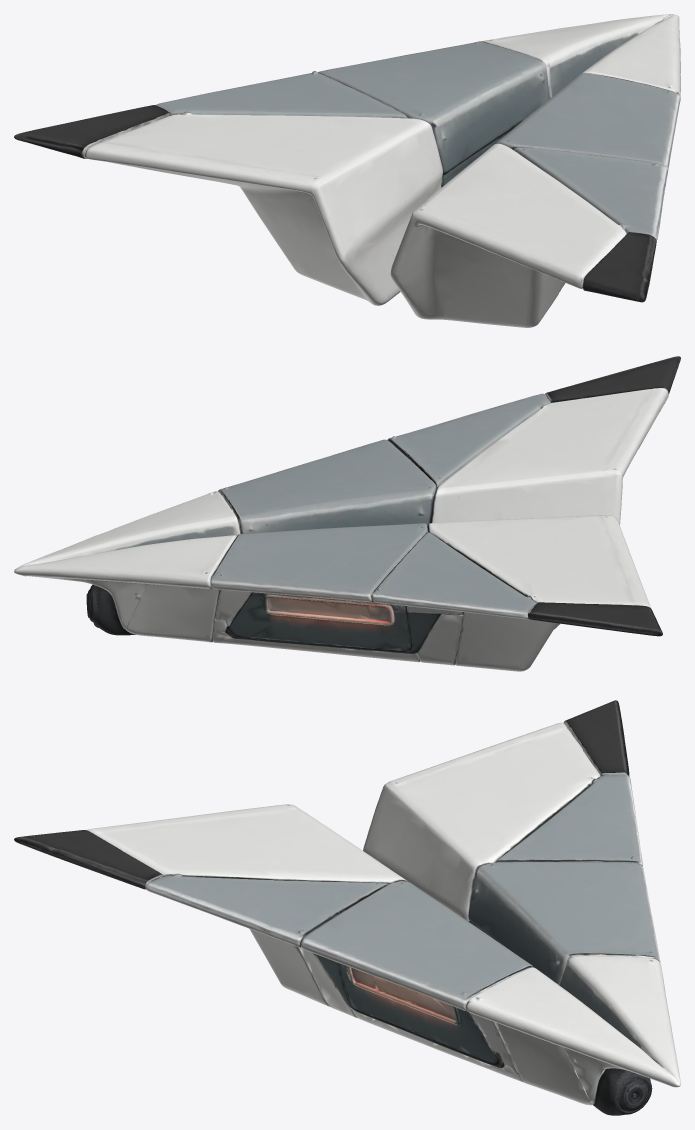
The model's file is glider.glb.
3 views of the same model, one above another, from view 1: azimuth 30°, elevation 25°; view 2: azimuth 150°, elevation 25°; view 3: azimuth 270°, elevation 25° (orthographic). The views are drawn at different scales.
Parts seen in each view (by area): view 1: tripo_node_c82394b1-4a25-46db-8e76-dd9c8690579a; view 2: tripo_node_c82394b1-4a25-46db-8e76-dd9c8690579a; view 3: tripo_node_c82394b1-4a25-46db-8e76-dd9c8690579a.
Part boxes in pixels (x1,y1,x2,y2): tripo_node_c82394b1-4a25-46db-8e76-dd9c8690579a: [14, 14, 680, 327]; tripo_node_c82394b1-4a25-46db-8e76-dd9c8690579a: [14, 356, 680, 671]; tripo_node_c82394b1-4a25-46db-8e76-dd9c8690579a: [14, 700, 680, 1115].
Size of the model in its own units: 1.48 by 0.2999 by 1.32.
Materials: 1 (1 with a texture image).
